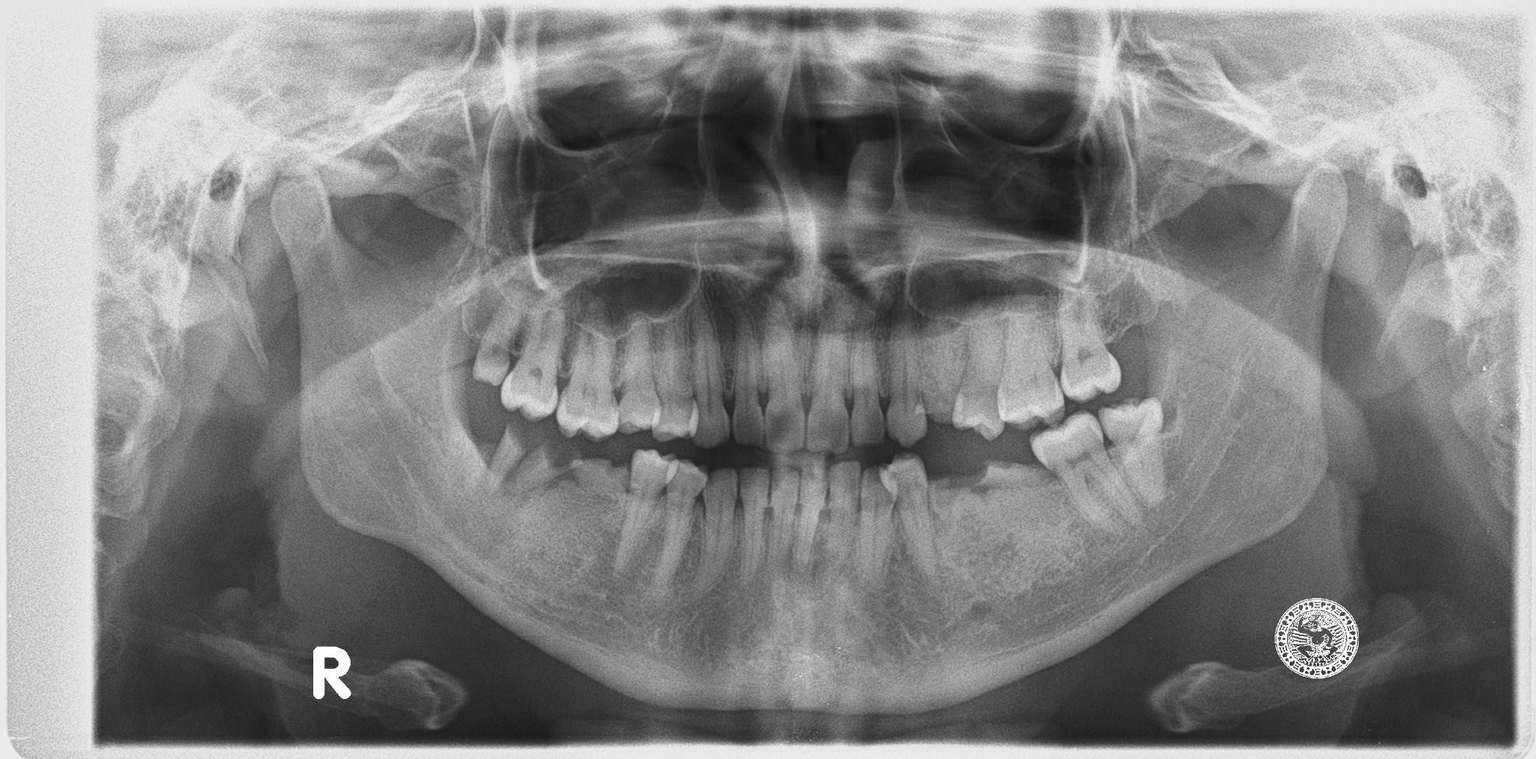Individual Tooth: (1030, 411, 1145, 528), (556, 303, 620, 440), (879, 453, 941, 589), (614, 449, 679, 576), (501, 296, 564, 421), (998, 316, 1063, 428), (951, 317, 1009, 440), (1098, 398, 1164, 506), (1059, 286, 1120, 402), (654, 460, 707, 585), (805, 306, 850, 453), (763, 300, 805, 453), (688, 295, 730, 447), (888, 287, 927, 449), (693, 468, 737, 598), (653, 318, 698, 440), (860, 465, 900, 594), (503, 441, 581, 505), (619, 319, 661, 433), (851, 306, 885, 446), (473, 299, 522, 386), (732, 318, 763, 446), (738, 468, 770, 586), (793, 455, 827, 565), (824, 460, 861, 560), (486, 427, 523, 496), (770, 468, 798, 556), (571, 459, 630, 495)
